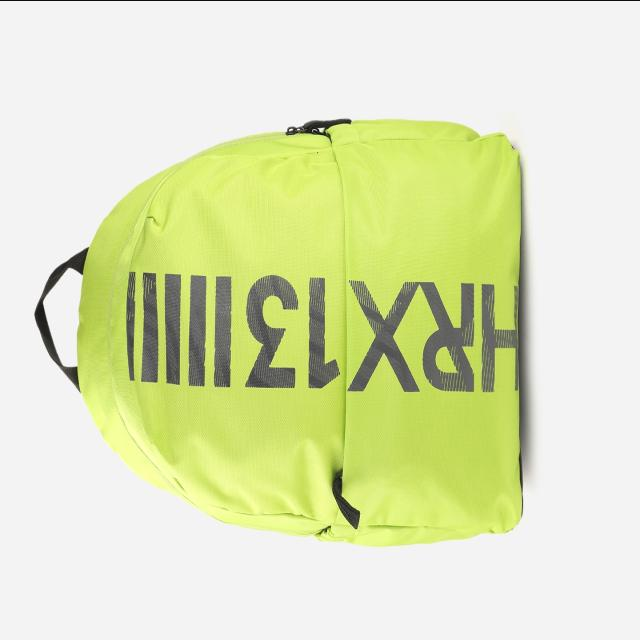backpack: (34, 118, 524, 548)
